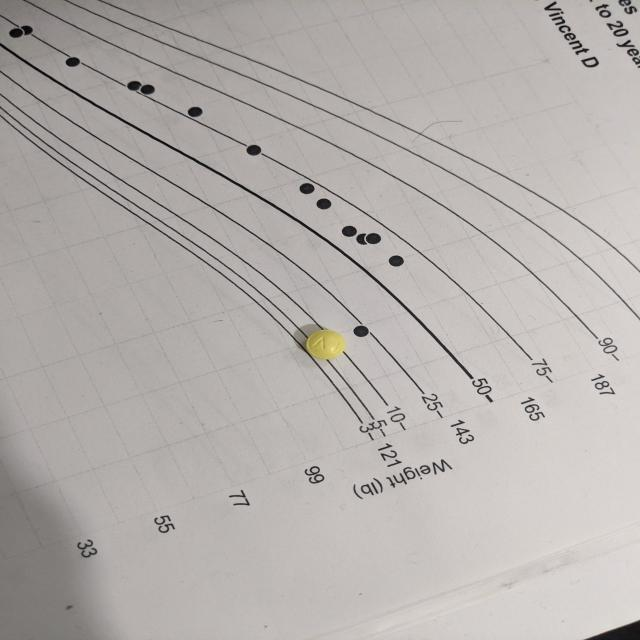non-organic waste: (304, 329, 346, 360)
